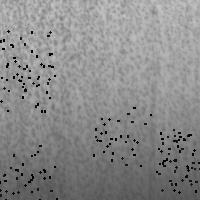pitted_surface: (1, 1, 199, 199), (93, 107, 150, 165), (0, 30, 51, 90), (0, 60, 54, 110), (156, 132, 200, 191), (0, 145, 43, 200), (0, 163, 56, 200), (168, 126, 200, 183)
